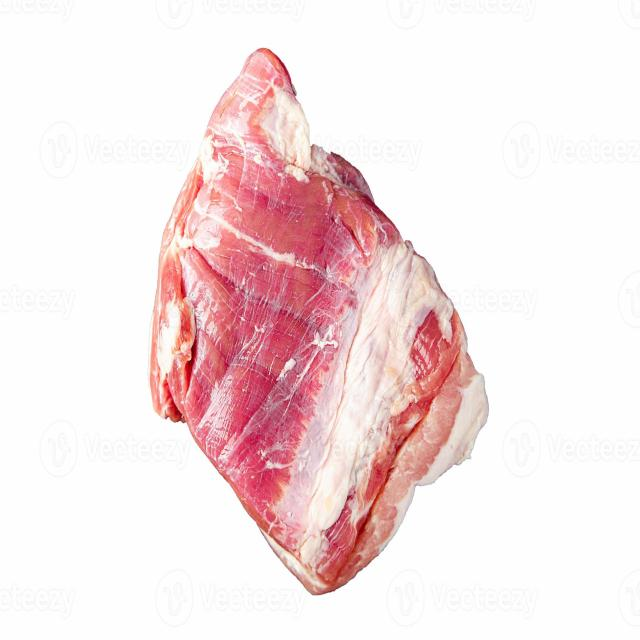Pork: (149, 47, 489, 595)
